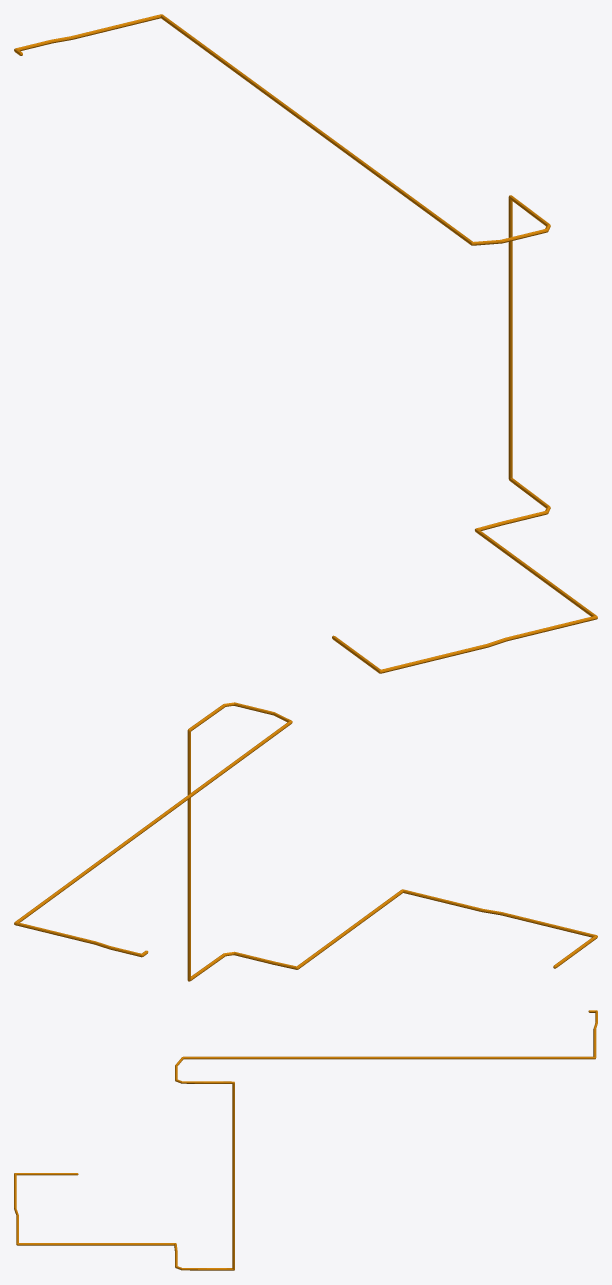
3 views of the same model, one above another, from view 1: azimuth 30°, elevation 25°; view 2: azimuth 150°, elevation 25°; view 3: azimuth 270°, elevation 25° (orthographic). The views are drawn at different scales.
Size of the model in its own units: 1663 by 1520 by 4254.
